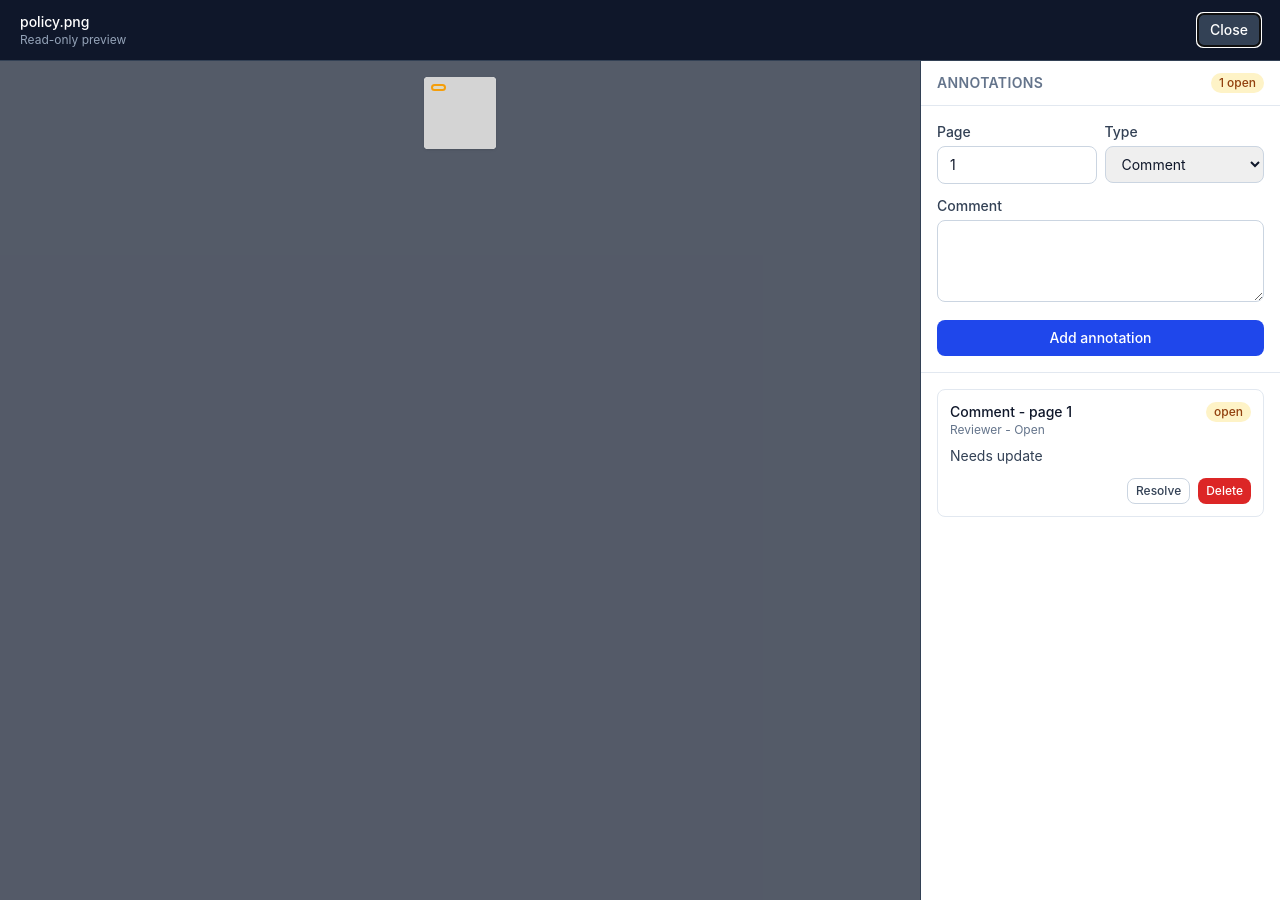
Scenario: DocumentViewer annotations › shows a visible error when an annotation action fails
Click the button "Resolve".
click(1159, 491)  # box [1127, 478, 1190, 504]
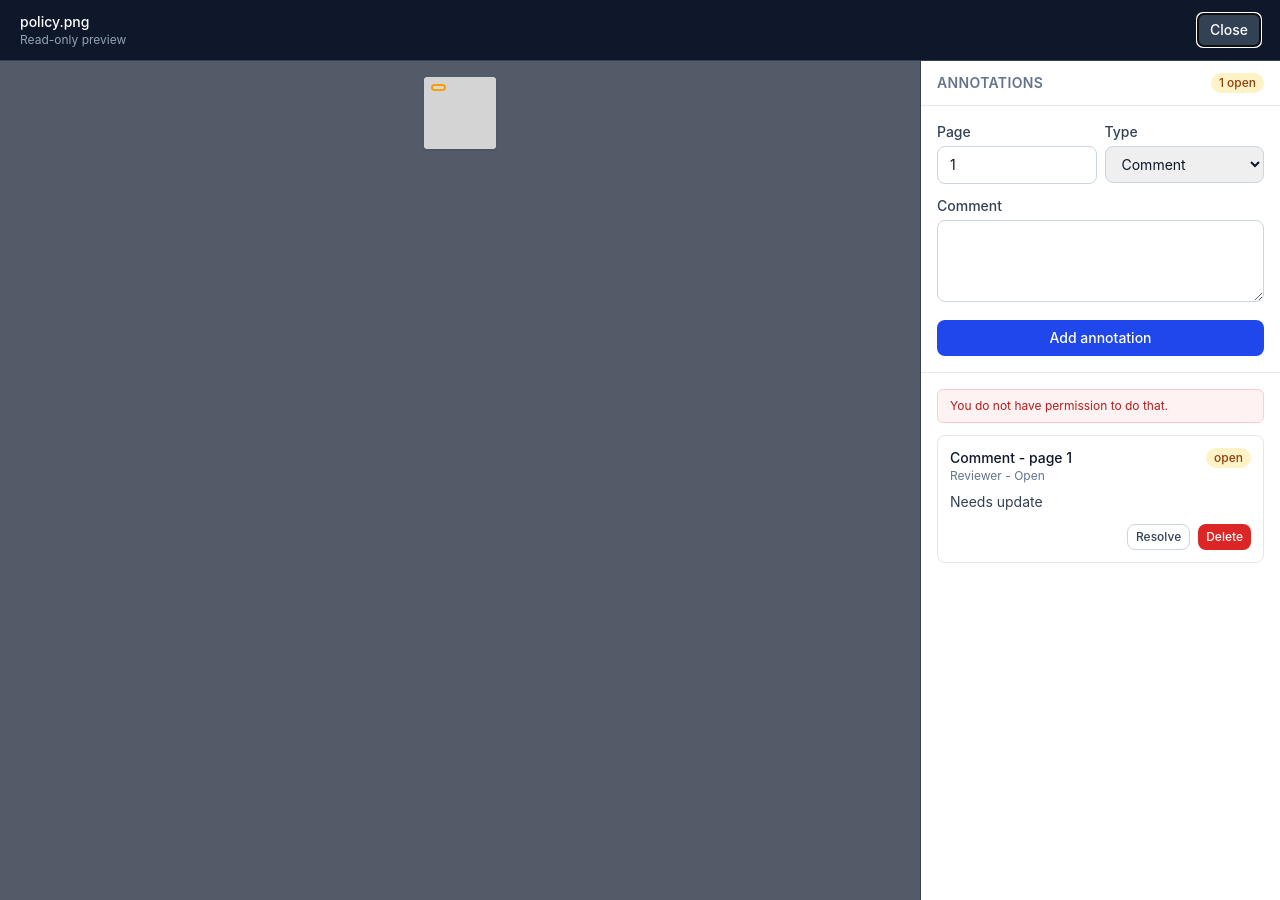
Check: the message reads "You do not have permission to do that.", box [950, 398, 1168, 413]
